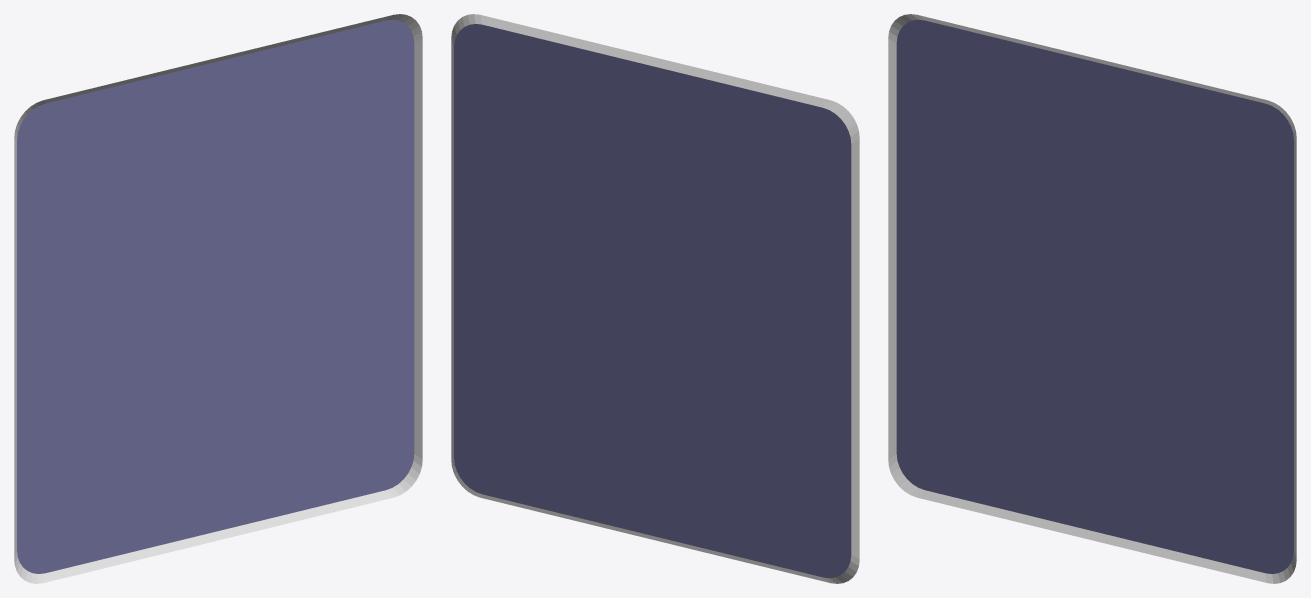
Rendered from RoundedMenu.fbx.
3 views of the same model, side by side, from view 1: azimuth 30°, elevation 25°; view 2: azimuth 150°, elevation 25°; view 3: azimuth 330°, elevation 25° (orthographic).
Parts seen in each view (by area): view 1: RoundedMenu; view 2: RoundedMenu; view 3: RoundedMenu.
Boxes of the visible parts, box(x1,y1,x2,y2) form: RoundedMenu: box(14, 14, 422, 583); RoundedMenu: box(451, 14, 859, 583); RoundedMenu: box(888, 14, 1296, 583).
Size of the model in its own units: 99.08 by 112 by 1.19.
